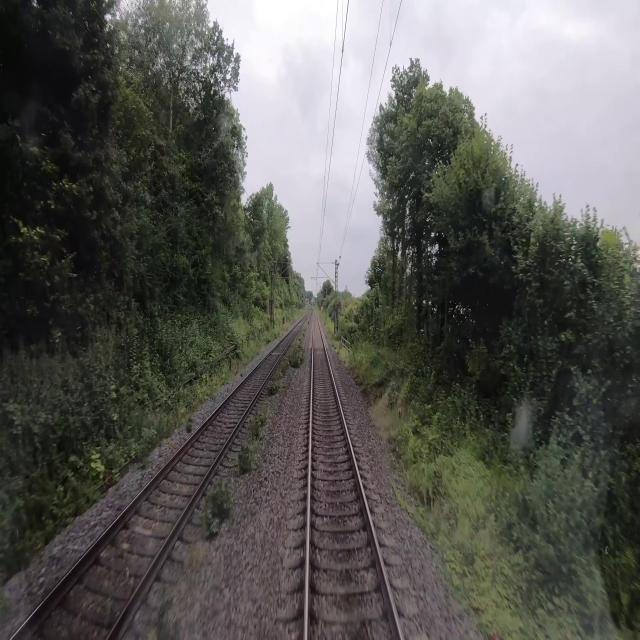Plant: (390, 477, 441, 556), (199, 491, 232, 536), (291, 326, 309, 367), (251, 408, 273, 439), (233, 445, 253, 474), (278, 357, 289, 374), (268, 382, 281, 394)
